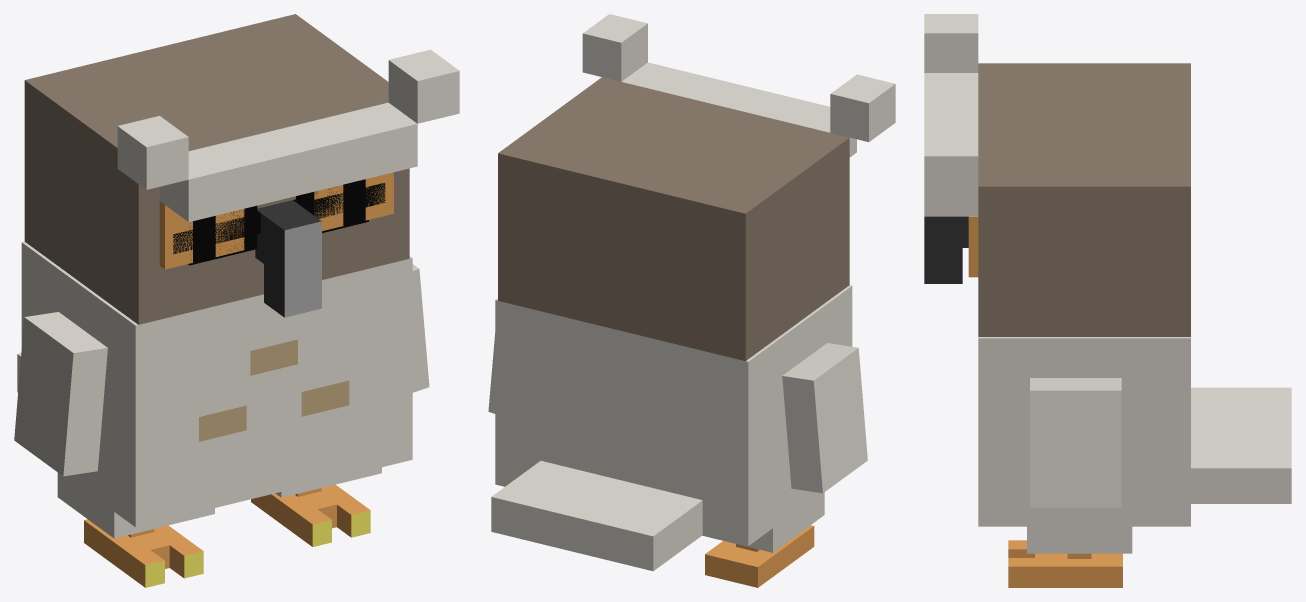
3 views of the same model, side by side, from view 1: azimuth 30°, elevation 25°; view 2: azimuth 150°, elevation 25°; view 3: azimuth 270°, elevation 25° (orthographic). The views are drawn at different scales.
Visible parts, largest first — view 1: Ch_22_Head, Ch_22, Ch_22_Wing_L, Ch_22_Leg_L, Ch_22_Eye_01, Ch_22_Leg_R, Ch_22_Eye_02, Ch_22_Wing_R; view 2: Ch_22_Head, Ch_22, Ch_22_Wing_L, Ch_22_Leg_L; view 3: Ch_22_Head, Ch_22, Ch_22_Wing_R, Ch_22_Leg_R, Ch_22_Eye_01.
Boxes of the visible parts, <box> form: Ch_22_Head: <box>24,14,459,324</box>; Ch_22: <box>17,241,412,527</box>; Ch_22_Wing_L: <box>14,312,107,476</box>; Ch_22_Leg_L: <box>57,472,214,587</box>; Ch_22_Eye_01: <box>159,172,393,269</box>; Ch_22_Leg_R: <box>251,467,381,546</box>; Ch_22_Eye_02: <box>173,183,385,254</box>; Ch_22_Wing_R: <box>412,264,429,392</box>; Ch_22_Head: <box>498,14,895,360</box>; Ch_22: <box>491,285,852,571</box>; Ch_22_Wing_L: <box>782,343,867,493</box>; Ch_22_Leg_L: <box>702,492,824,587</box>; Ch_22_Head: <box>924,14,1190,336</box>; Ch_22: <box>978,337,1291,526</box>; Ch_22_Wing_R: <box>1030,378,1121,507</box>; Ch_22_Leg_R: <box>1008,526,1132,587</box>; Ch_22_Eye_01: <box>968,216,978,277</box>.
Size of the model in its own units: 9.04 by 11.43 by 8.43.
